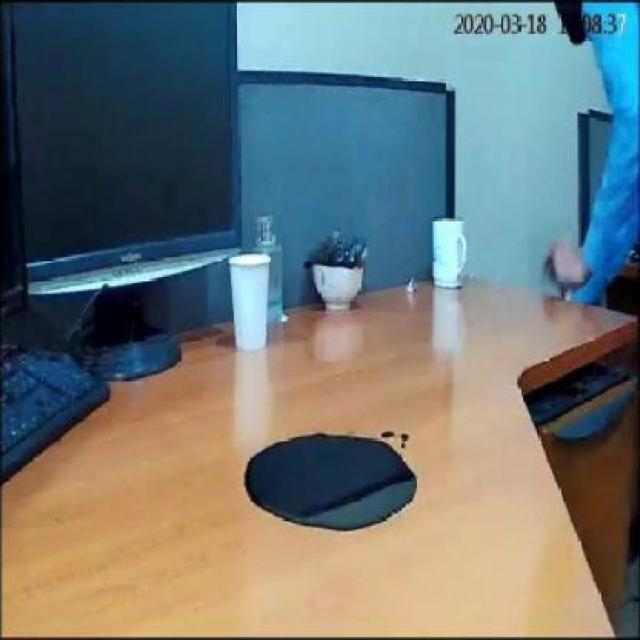spillage: (244, 428, 419, 534)
